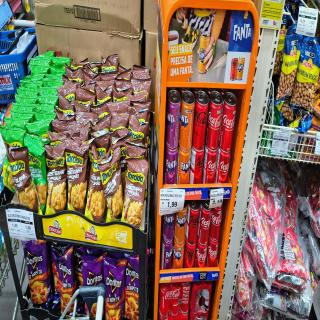beverage: (222, 90, 238, 152), (208, 93, 222, 151), (167, 89, 180, 150), (181, 92, 193, 150), (195, 91, 206, 149), (190, 146, 202, 184), (179, 146, 190, 186), (203, 146, 214, 184), (175, 206, 186, 244), (166, 147, 177, 184), (199, 203, 209, 243), (198, 35, 208, 74), (211, 204, 222, 239), (188, 202, 197, 243), (218, 148, 228, 184), (163, 213, 175, 243), (196, 238, 208, 268), (184, 239, 196, 268), (162, 236, 172, 270), (208, 236, 218, 269), (160, 285, 170, 316), (173, 238, 183, 268), (170, 285, 180, 315), (202, 284, 211, 312), (180, 284, 188, 315), (230, 57, 238, 81), (192, 284, 198, 315), (238, 58, 245, 81)
food-box: (22, 244, 49, 308), (51, 254, 77, 314), (5, 143, 29, 207), (65, 144, 86, 214), (102, 257, 125, 320), (25, 138, 47, 202), (125, 157, 144, 231), (45, 145, 65, 215), (81, 262, 104, 319), (105, 160, 124, 224), (90, 150, 106, 224), (126, 256, 140, 320), (0, 123, 24, 148), (130, 115, 148, 144), (112, 136, 128, 149), (92, 138, 109, 150)
